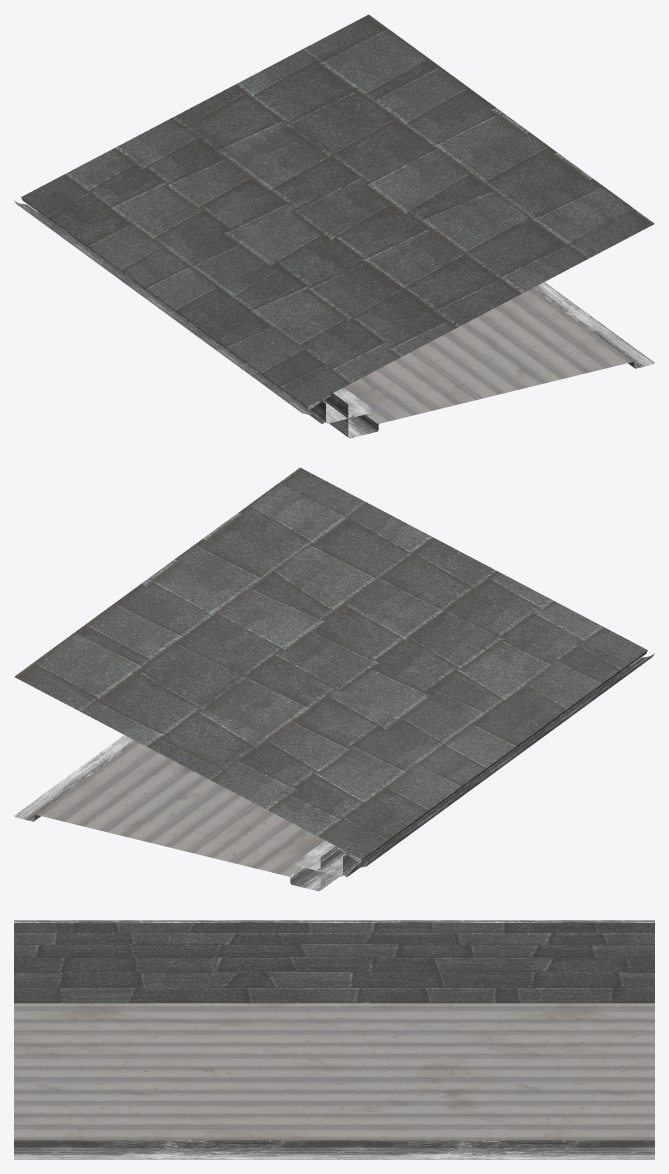
File: SM_Porch_Roof_C3_Splines_13.fbx
3 renders of one model, top to bottom at view 1: azimuth 30°, elevation 25°; view 2: azimuth 150°, elevation 25°; view 3: azimuth 270°, elevation 25°, orthographic. The views are drawn at different scales.
Parts seen in each view (by area): view 1: SM_Porch_Roof_C3_Splines_13; view 2: SM_Porch_Roof_C3_Splines_13; view 3: SM_Porch_Roof_C3_Splines_13.
Boxes of the visible parts, box(x1,y1,x2,y2) form: SM_Porch_Roof_C3_Splines_13: box(14, 14, 654, 438); SM_Porch_Roof_C3_Splines_13: box(14, 467, 654, 891); SM_Porch_Roof_C3_Splines_13: box(14, 920, 654, 1159).
Size of the model in its own units: 233 by 325 by 87.94.
3 materials, 3 textured.
